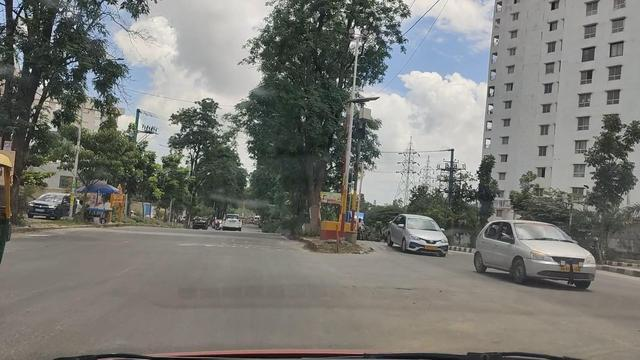LMV: (472, 221, 598, 288), (387, 210, 451, 257)
